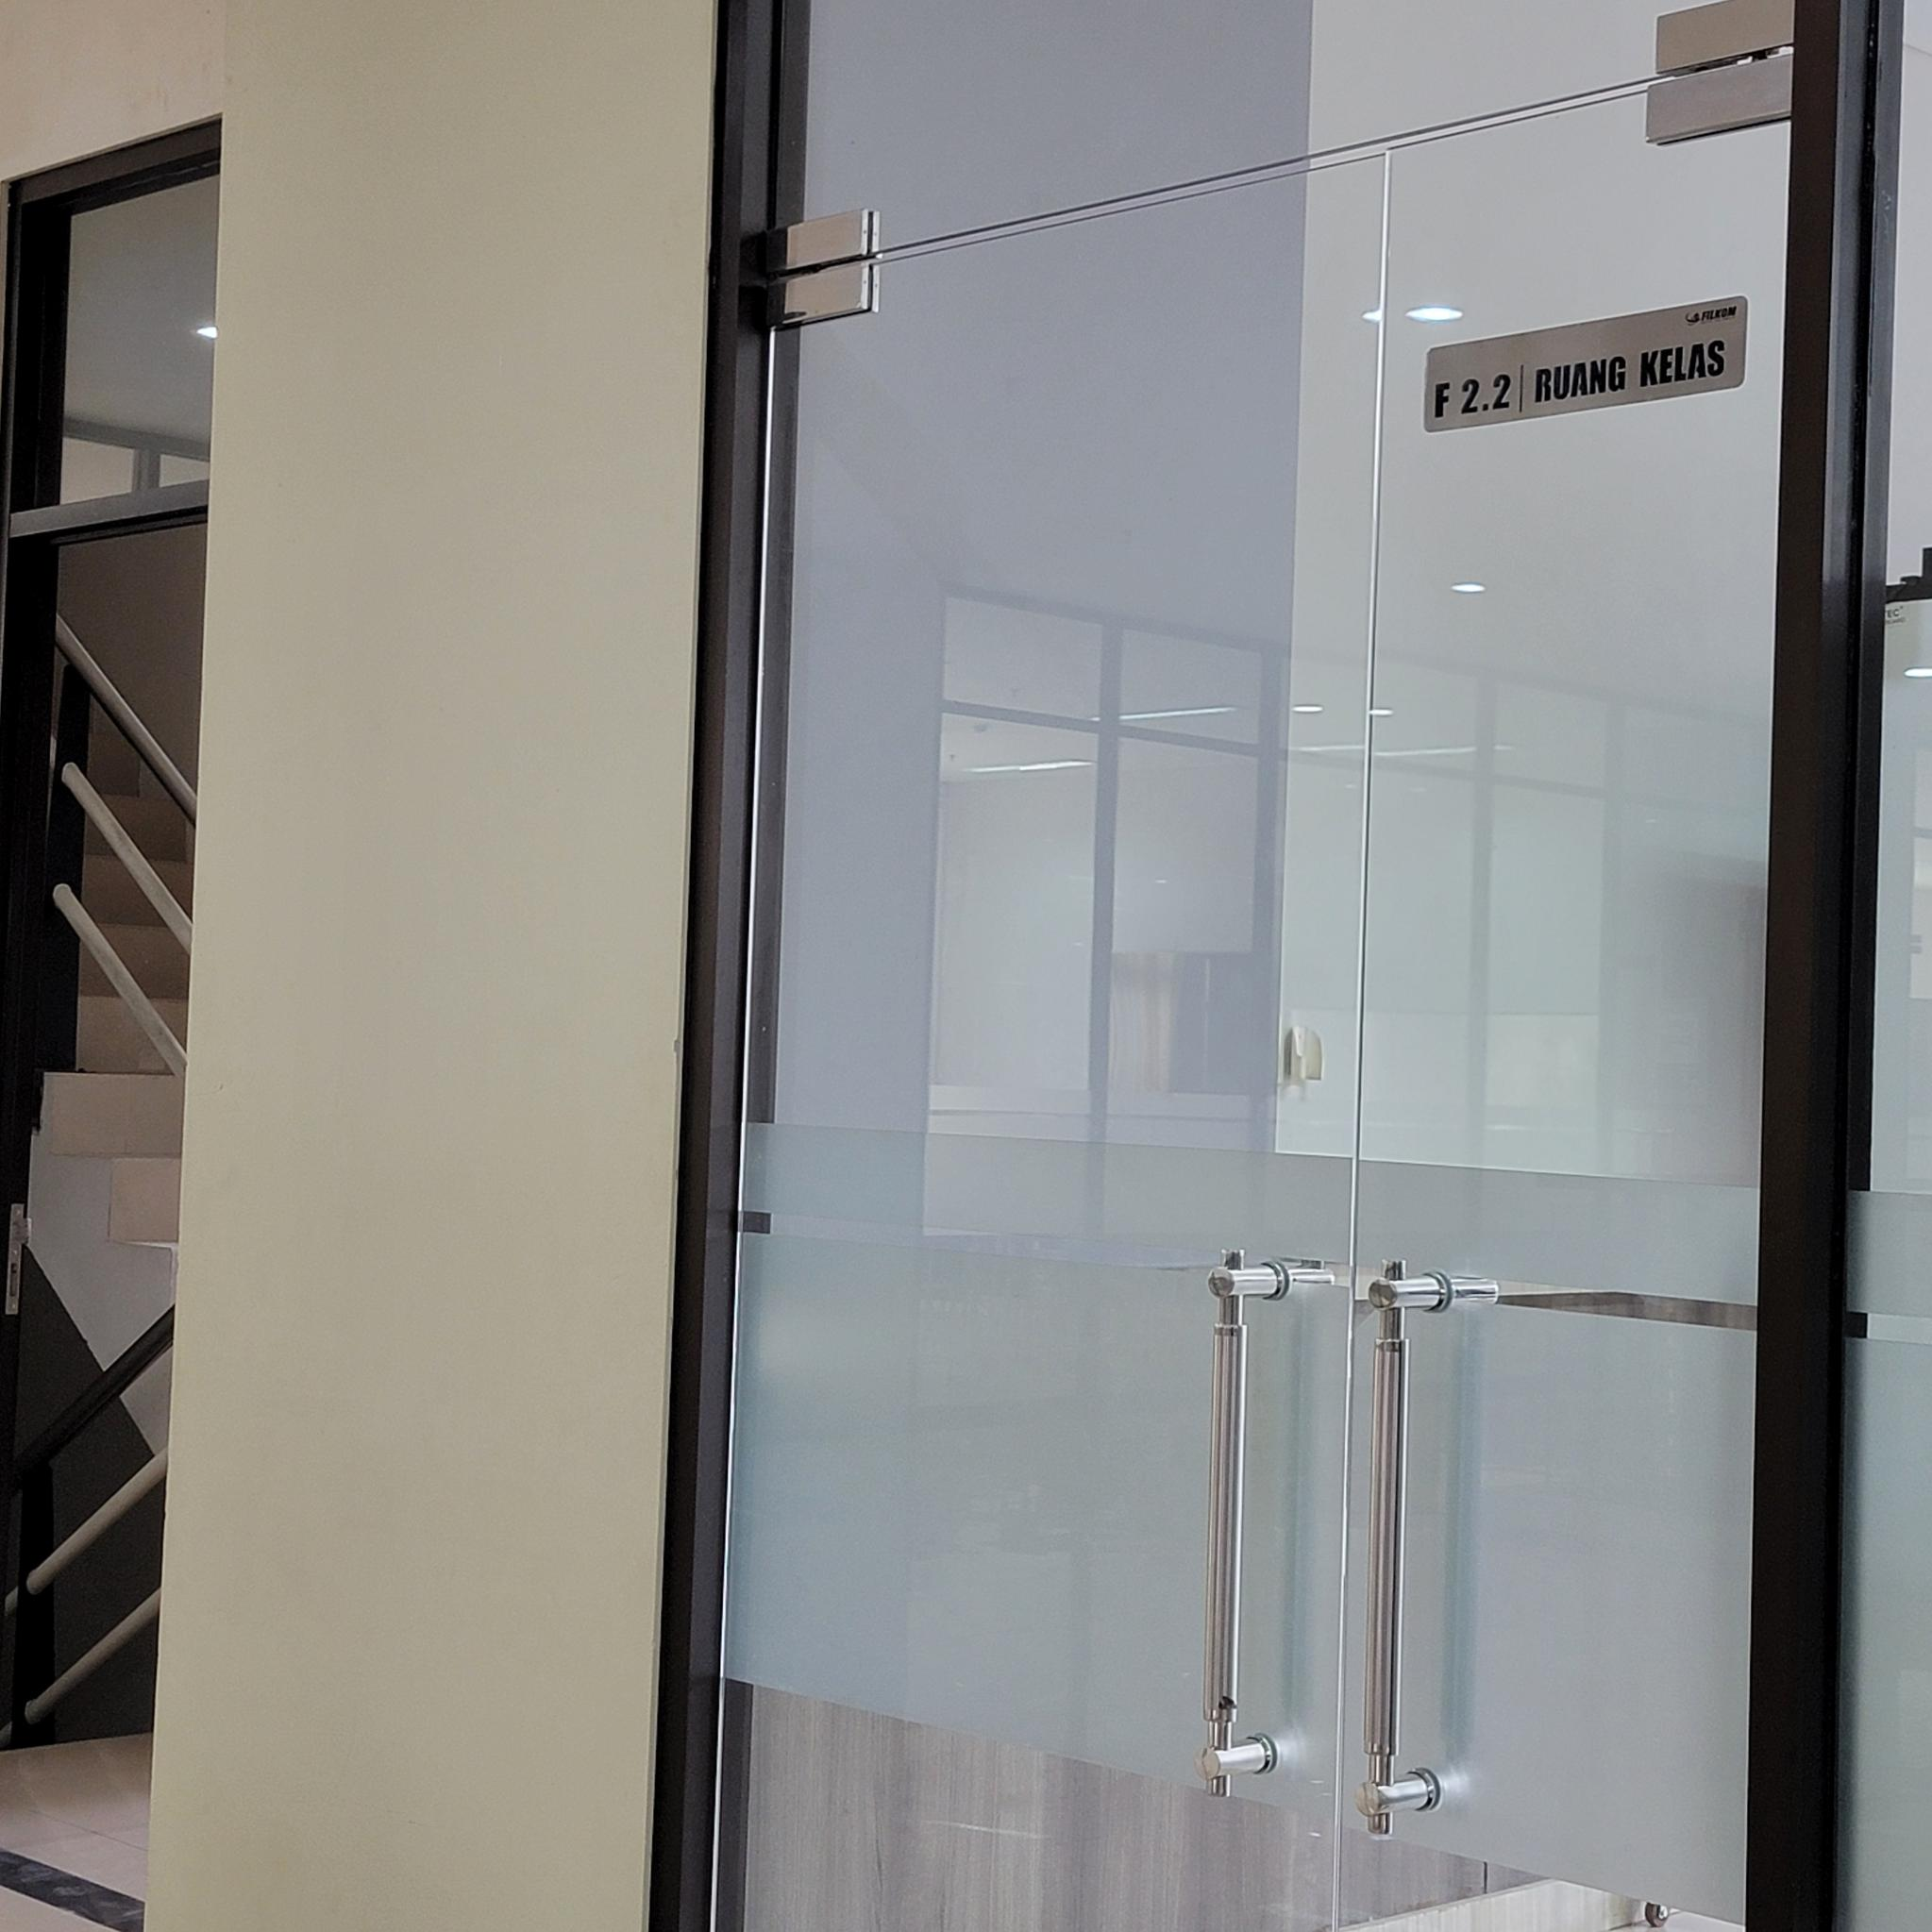plate: (1422, 295, 1746, 435)
